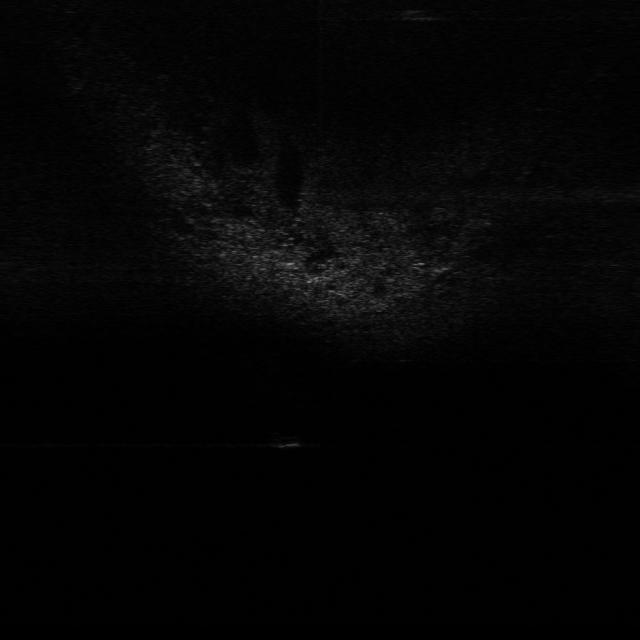cube: (267, 431, 304, 451)
